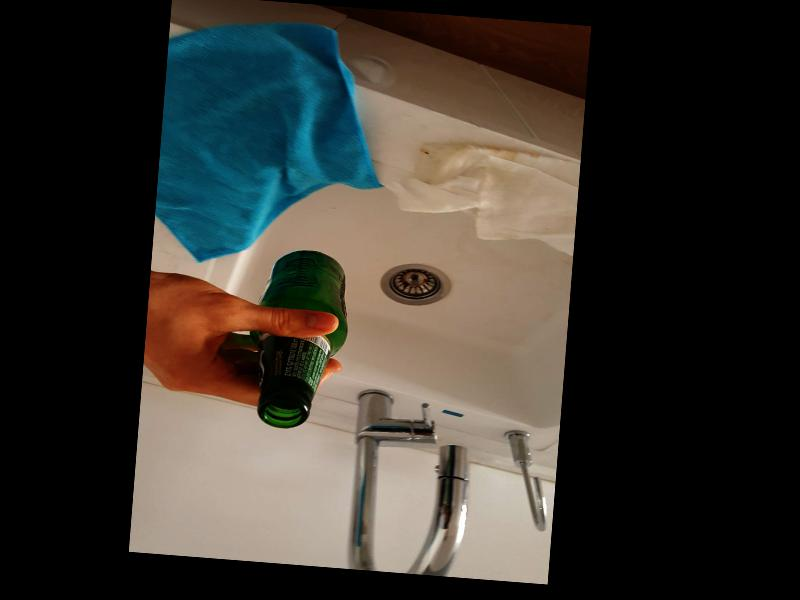Beer: (244, 245, 354, 432)
